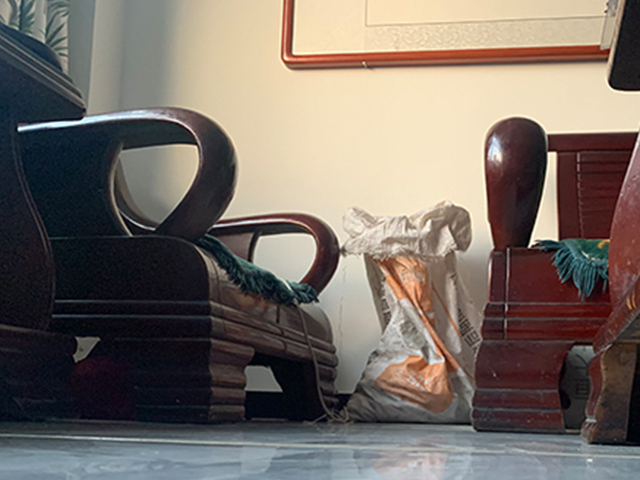sofa: (1, 25, 345, 421), (470, 117, 640, 435)
wire: (292, 302, 349, 424)
